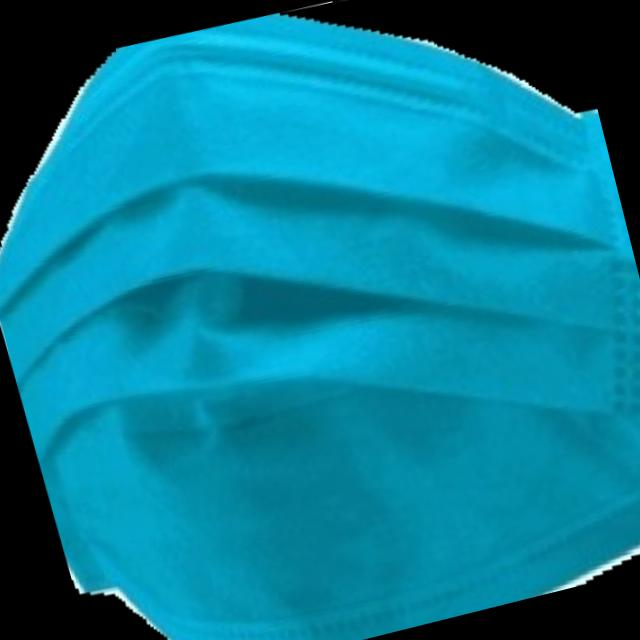others: (0, 10, 640, 640)
